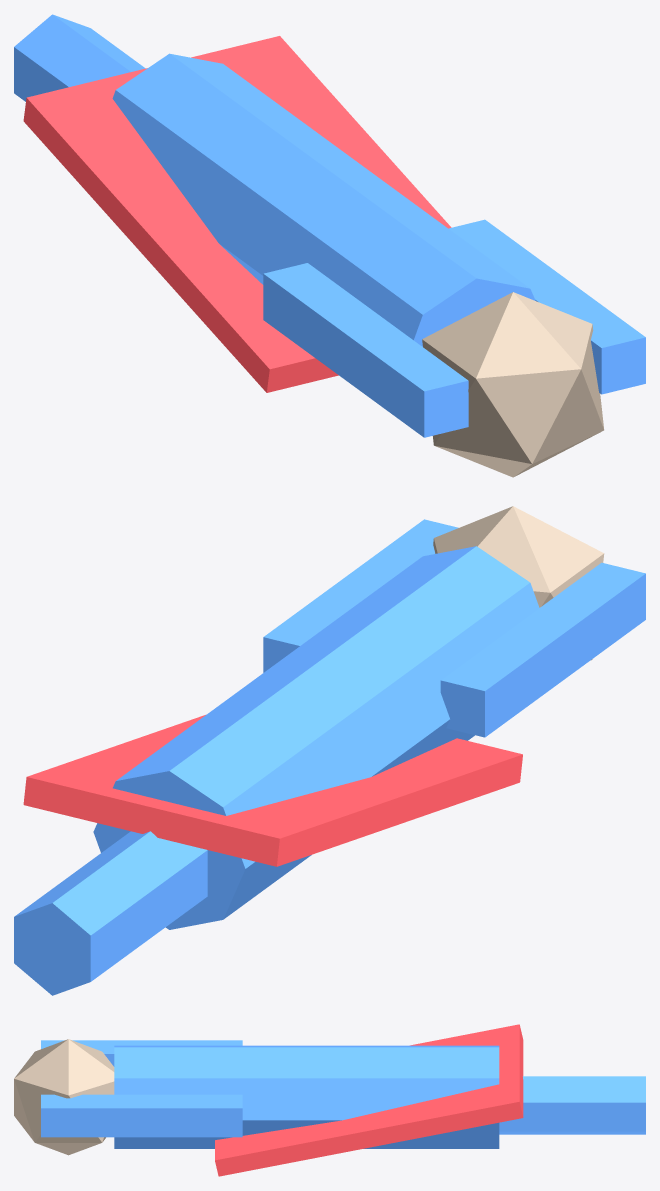
Rendered from hero_figure.glb.
3 views of the same model, one above another, from view 1: azimuth 30°, elevation 25°; view 2: azimuth 150°, elevation 25°; view 3: azimuth 270°, elevation 25° (orthographic). The views are drawn at different scales.
Parts seen in each view (by area): view 1: hero_figure; view 2: hero_figure; view 3: hero_figure.
Boxes of the visible parts, x1,y1,x2,y2 form: hero_figure: (14,14,645,477); hero_figure: (14,506,645,995); hero_figure: (14,1024,645,1176).
Size of the model in its own units: 0.2 by 0.14 by 0.6895.
